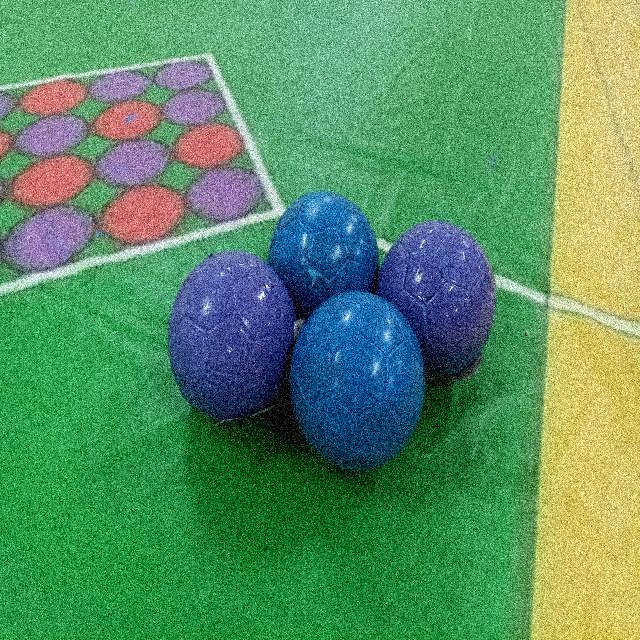blue_ball: (289, 292, 426, 470), (269, 190, 380, 297)
purple_ball: (171, 250, 292, 420), (382, 219, 495, 322)
